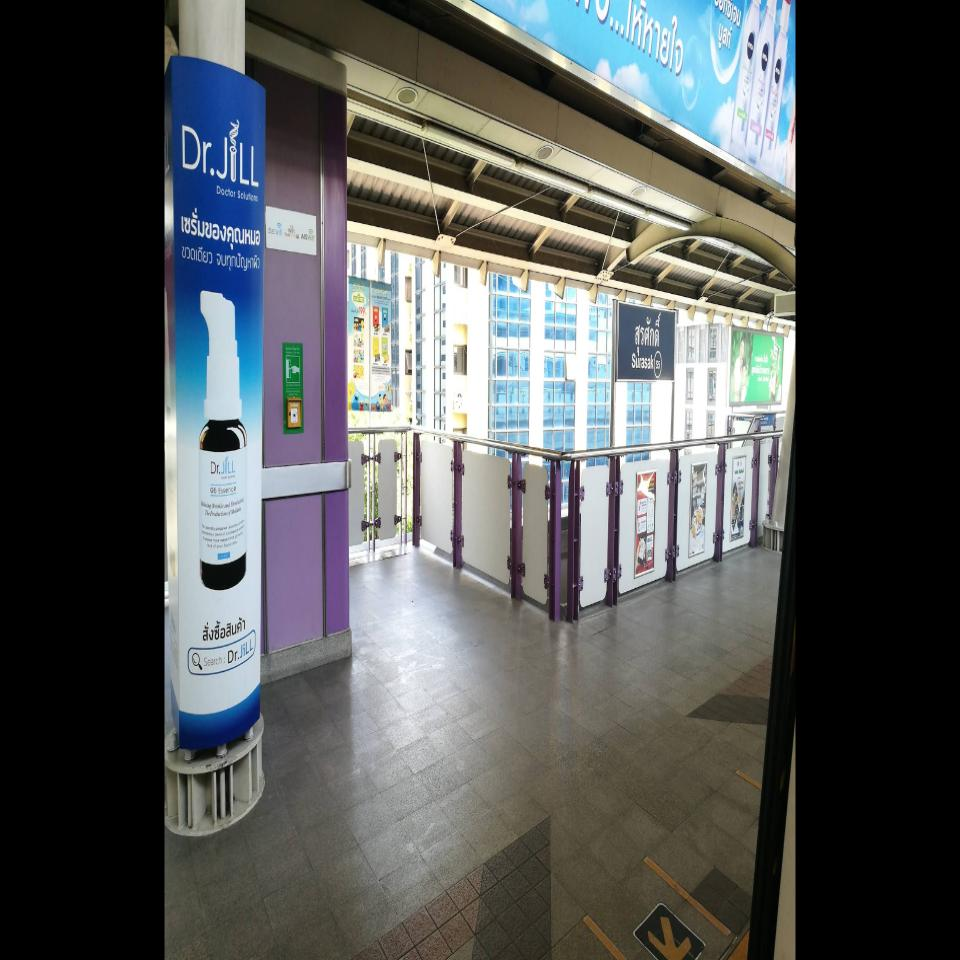signage: (616, 300, 677, 382)
